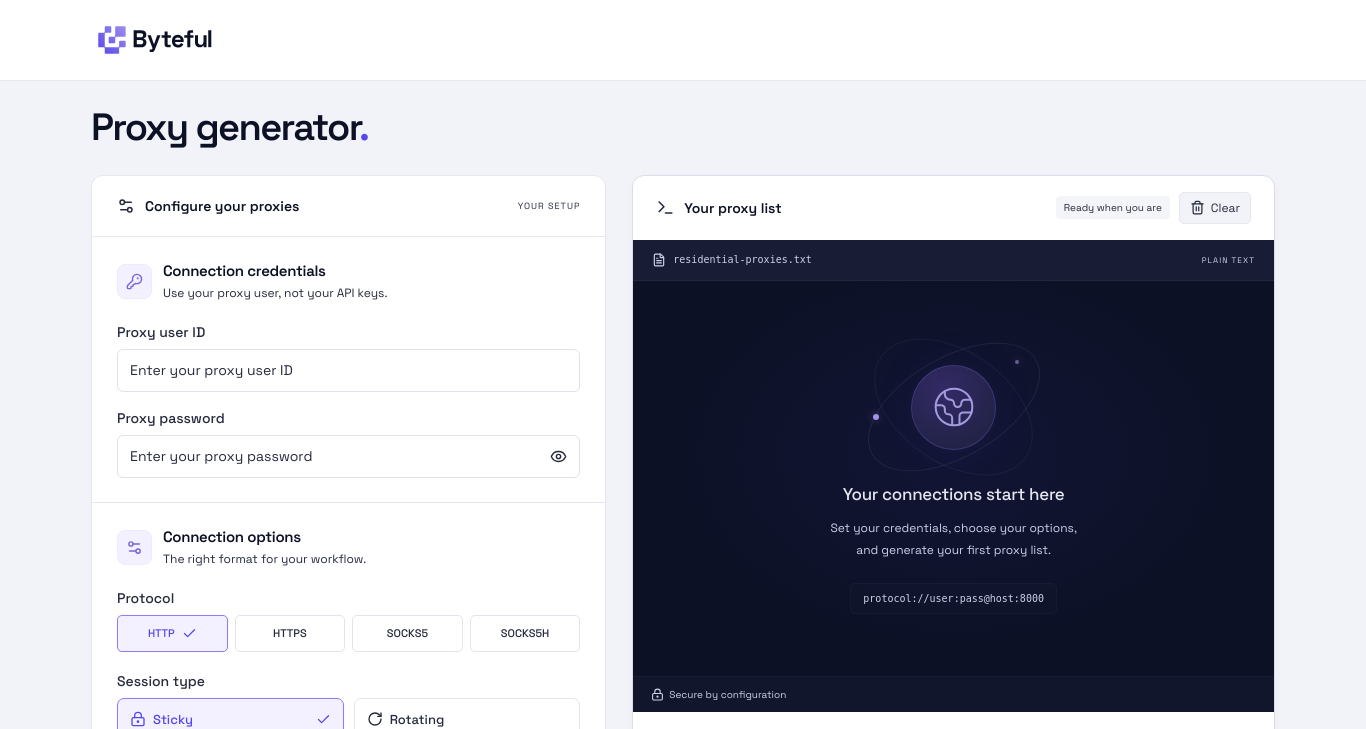
it: generator user flow › displays server errors and lets the user try generation again
Type "alice" into the field labelled "Proxy user ID" at (349, 370), box [117,349,580,392]
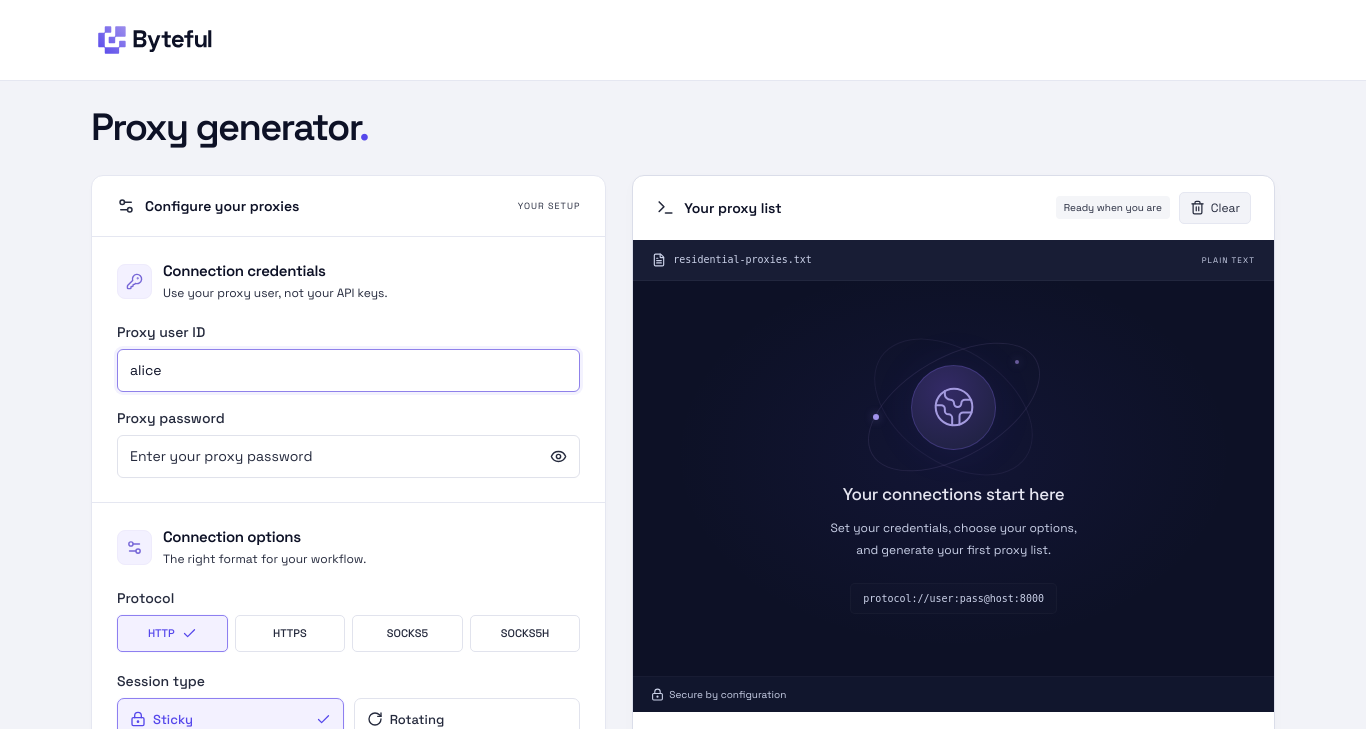
Type "secret" into the password field labelled "Proxy password" at (349, 456), box [117,435,580,478]
(page scrolled)
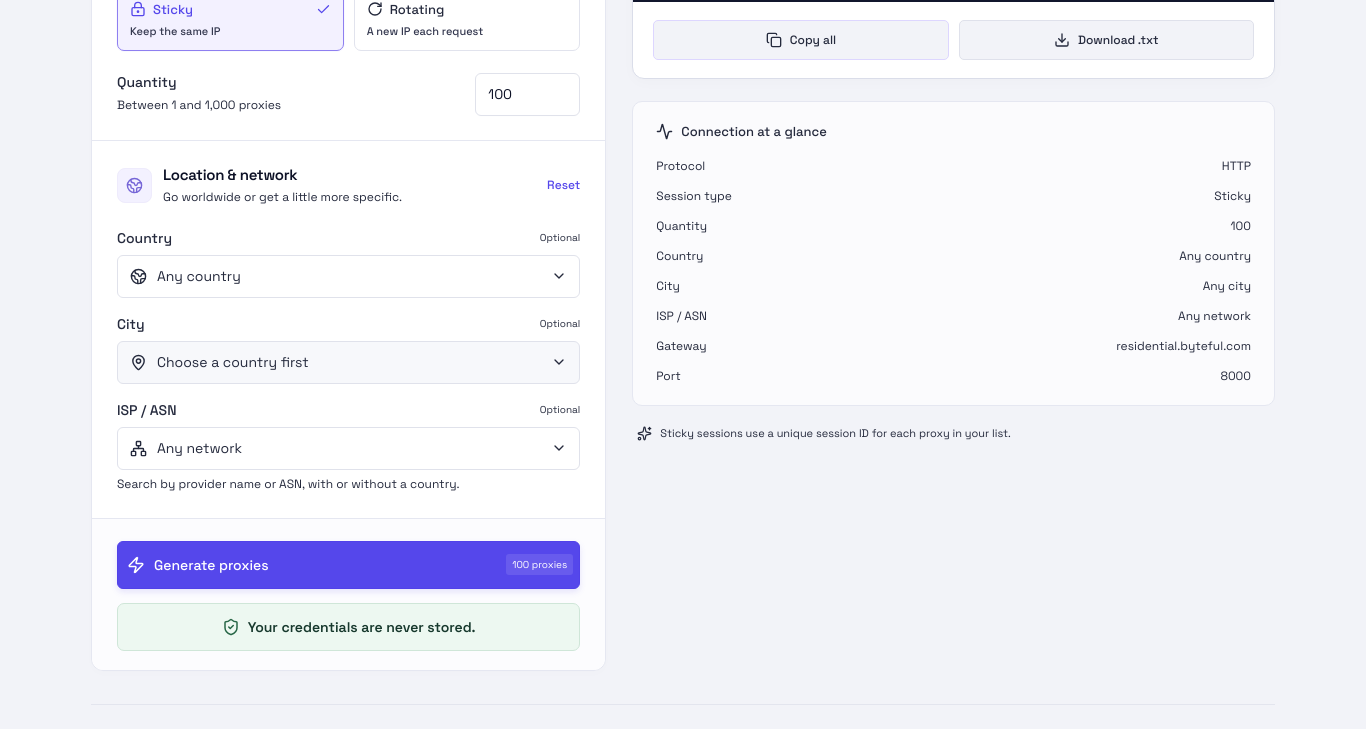
Click the button "Generate proxies 100 proxies" at (211, 565), box [117,541,580,589]
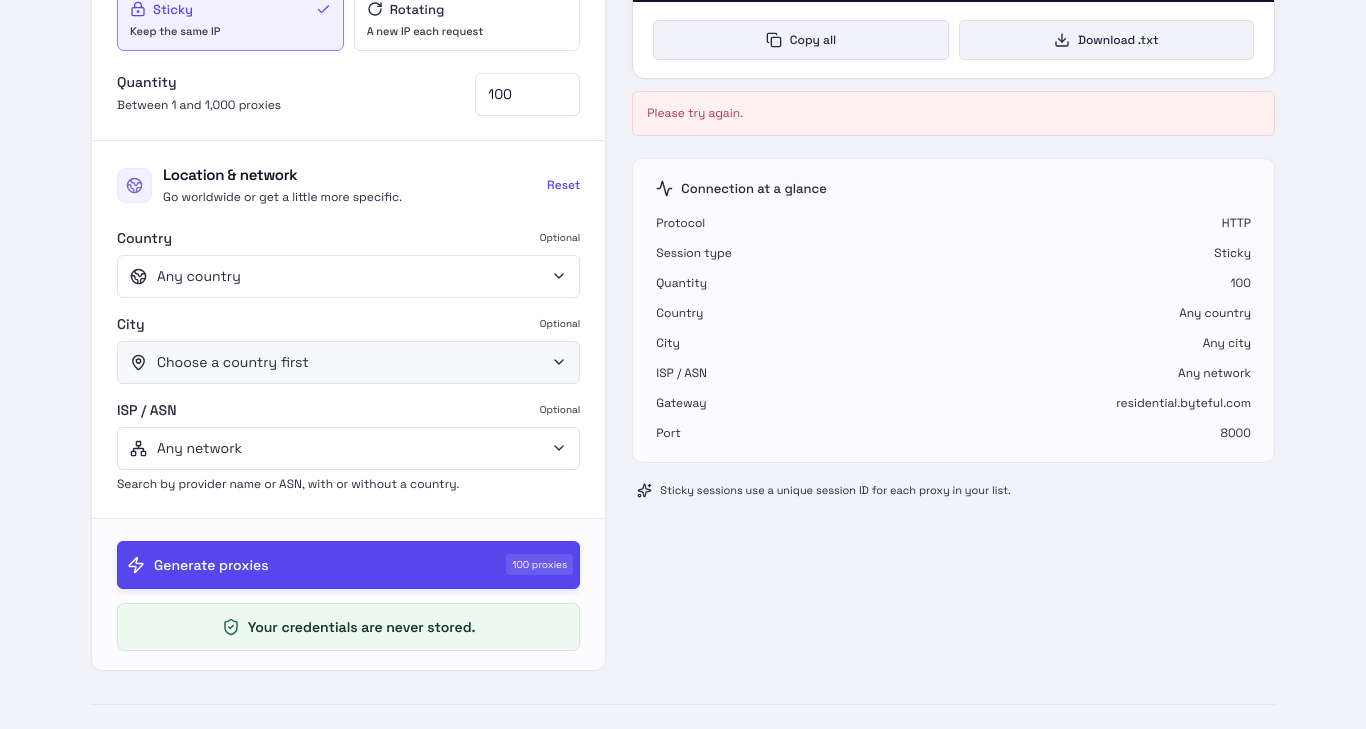
Expected: the message reads "Please try again.", [647,105,743,121]
